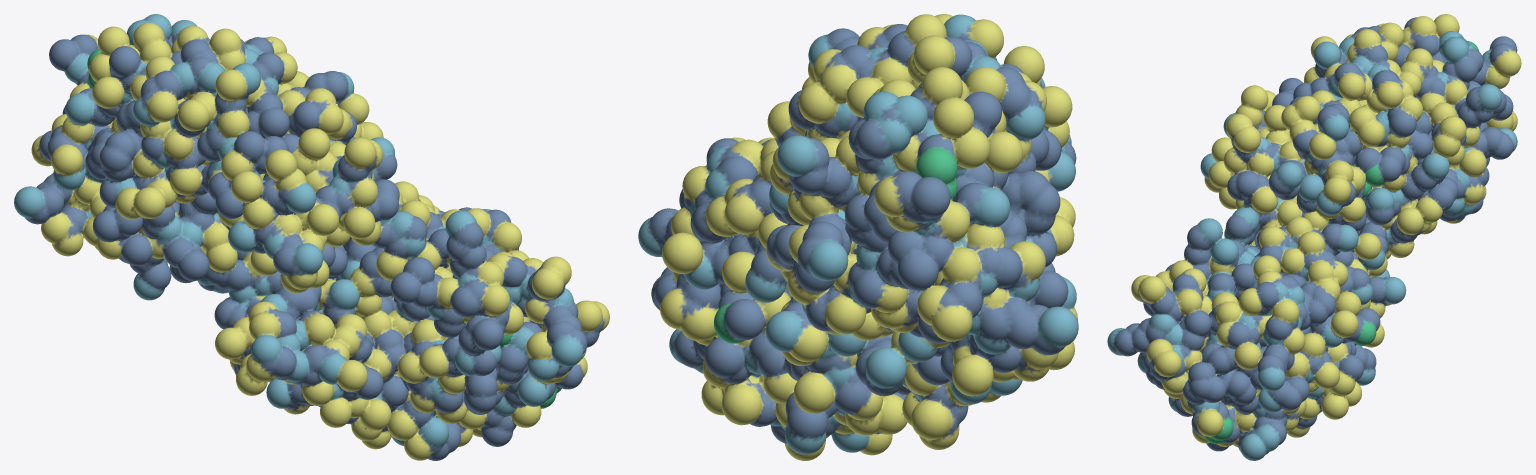
Rendered from subsurfHD.medium.glb.
3 views of the same model, side by side, from view 1: azimuth 30°, elevation 25°; view 2: azimuth 150°, elevation 25°; view 3: azimuth 270°, elevation 25° (orthographic). The views are drawn at different scales.
Visible parts, largest first — view 1: geo1; view 2: geo1; view 3: geo1.
Part boxes in pixels (x1,y1,x2,y2): geo1: (14,14,609,460); geo1: (638,14,1078,460); geo1: (1107,14,1521,460).
Bounding box in the file's own units: 63.2 × 55.84 × 59.96.
